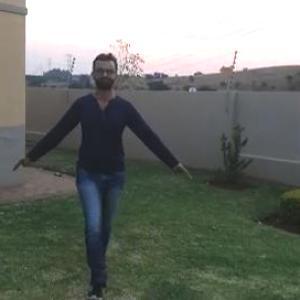land: (43, 66, 157, 264)
